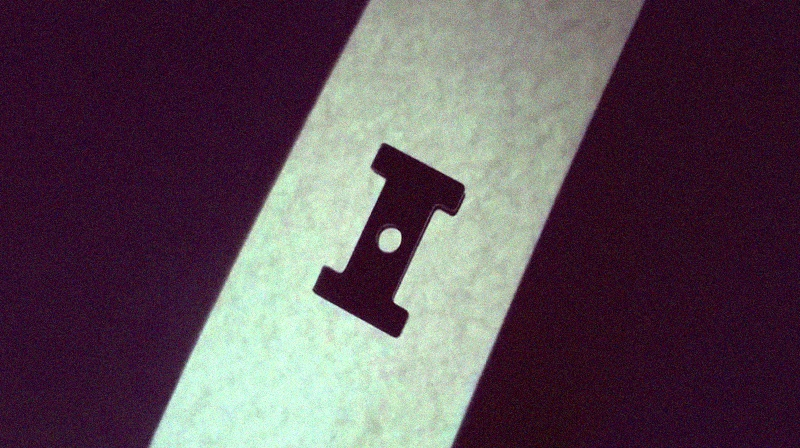O002: (309, 138, 467, 341)
